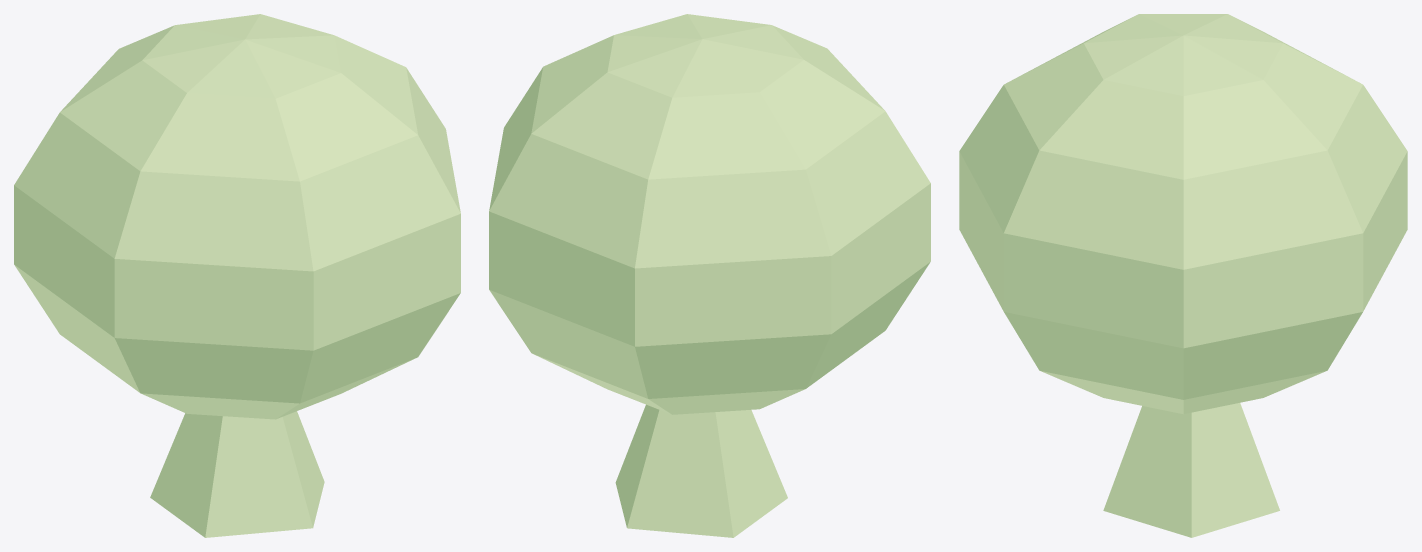
Rendered from Tree4.fbx.
The picture shows the model from 3 angles, left to right: view 1: azimuth 30°, elevation 25°; view 2: azimuth 150°, elevation 25°; view 3: azimuth 270°, elevation 25°; orthographic projection.
Visible parts, largest first — view 1: pSphere2, pPyramid3; view 2: pSphere2, pPyramid3; view 3: pSphere2, pPyramid3.
Part boxes in pixels (x1=…): pSphere2: x1=14, y1=14, x2=460, y2=419; pPyramid3: x1=150, y1=411, x2=324, y2=537; pSphere2: x1=489, y1=14, x2=930, y2=414; pPyramid3: x1=615, y1=404, x2=787, y2=537; pSphere2: x1=959, y1=14, x2=1407, y2=414; pPyramid3: x1=1103, y1=403, x2=1279, y2=537.
Bounding box in the file's own units: 11.61 × 13.55 × 11.91.
